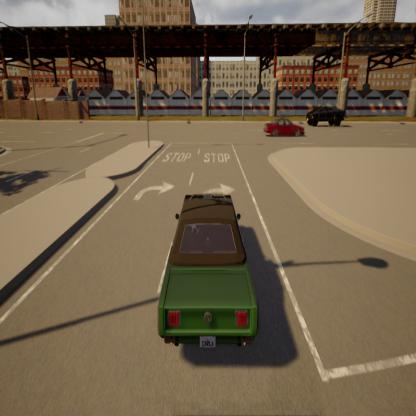Cars: (158, 192, 259, 350), (307, 102, 345, 128), (262, 115, 306, 137)
